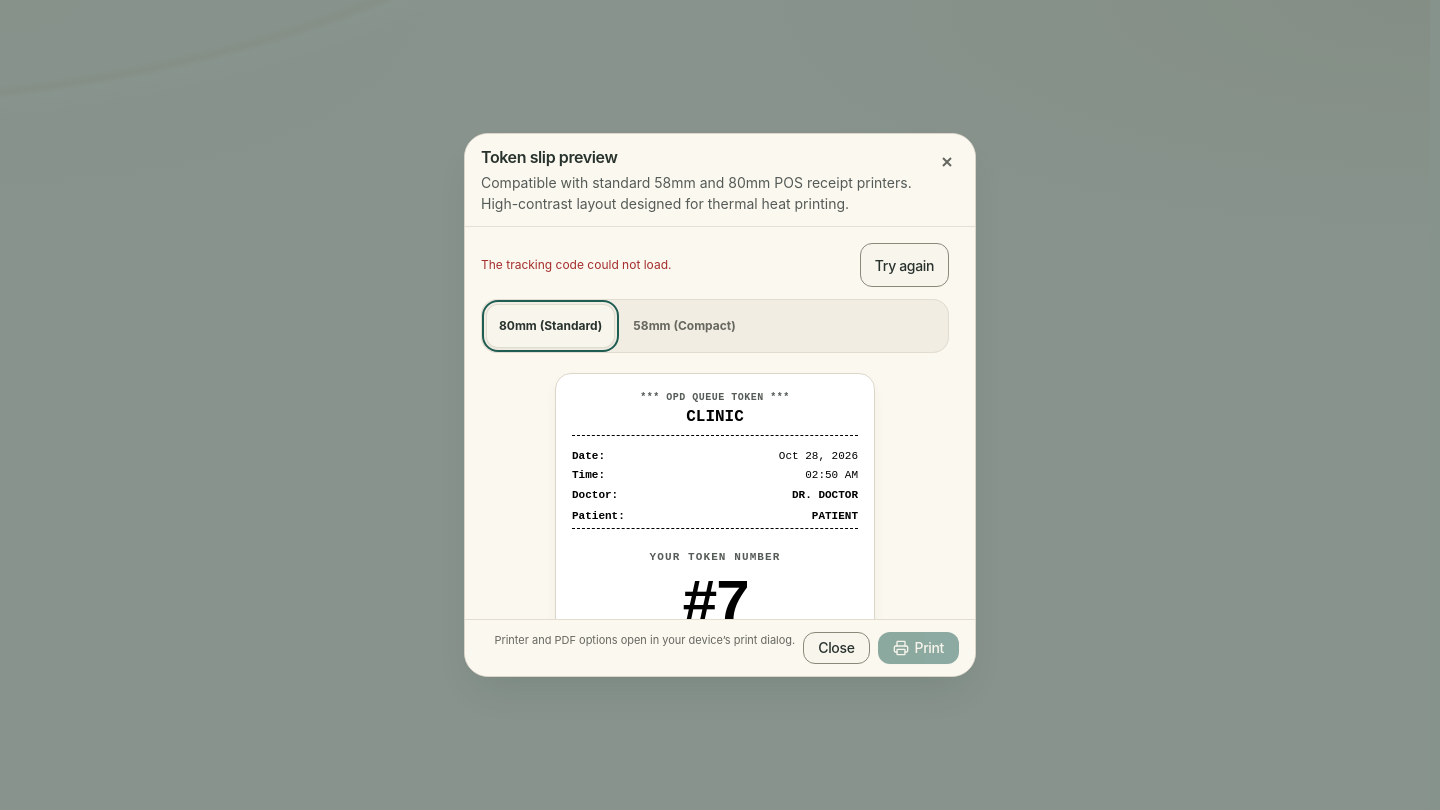
Existing paper and template choices › offers retry after a tracking code fails and keeps printing disabled until it recovers
Expected: the message "The tracking code could not load. Try again" is shown, [481,243,949,287]
Expected: the button with aria-label "Print token slip" is disabled, [878,632,959,664]
Click the button "Try again" at (904,265), box [860,243,949,287]
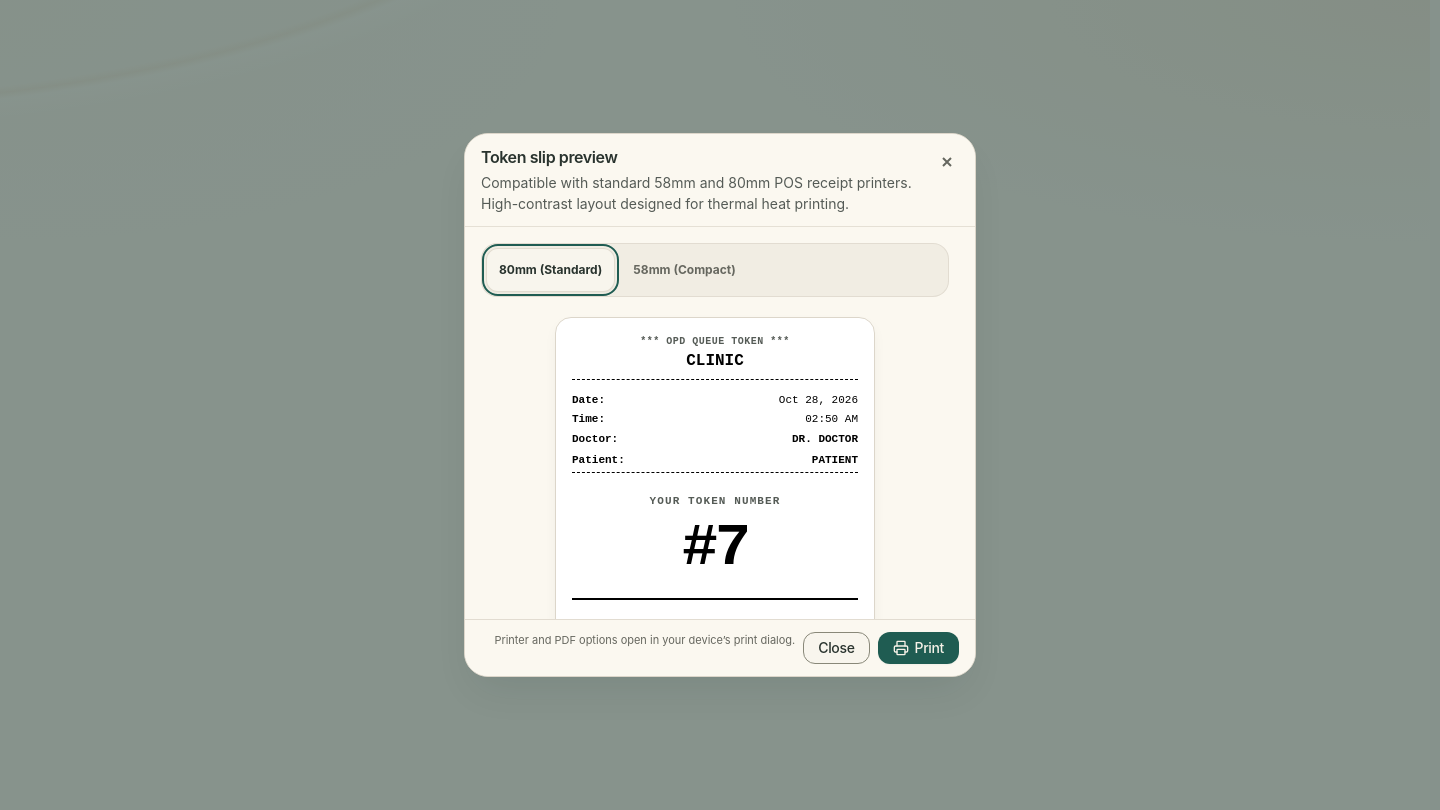
Result: the button with aria-label "Print token slip" is enabled at [878,632,959,664]
